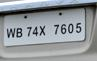0: (67, 21, 73, 33)
4: (32, 25, 38, 36)
5: (74, 21, 81, 33)
6: (59, 23, 67, 34)
7: (52, 22, 59, 34), (25, 24, 32, 35)
B: (15, 26, 23, 37)
W: (5, 26, 15, 38)
X: (37, 23, 46, 35)
